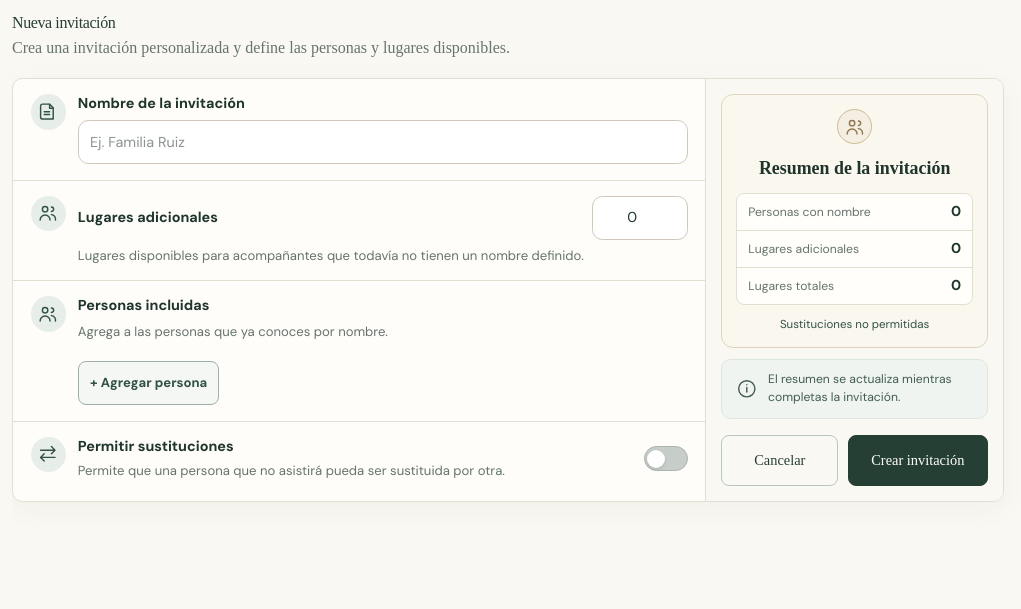
feedback al crear una invitación › conserva validaciones de personas y lugares editados
Type "Familia Ruiz" into the field labelled "Nombre de la invitación" at [383, 142], box left=78, top=120, right=688, bottom=164
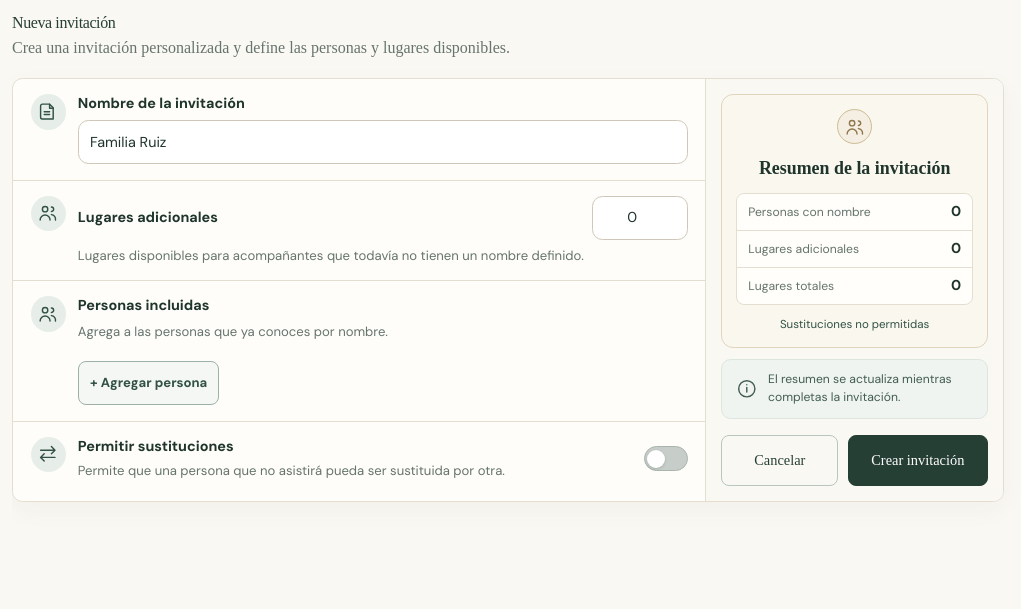
Click the button "+ Agregar persona" at [149, 383], box left=78, top=361, right=220, bottom=405
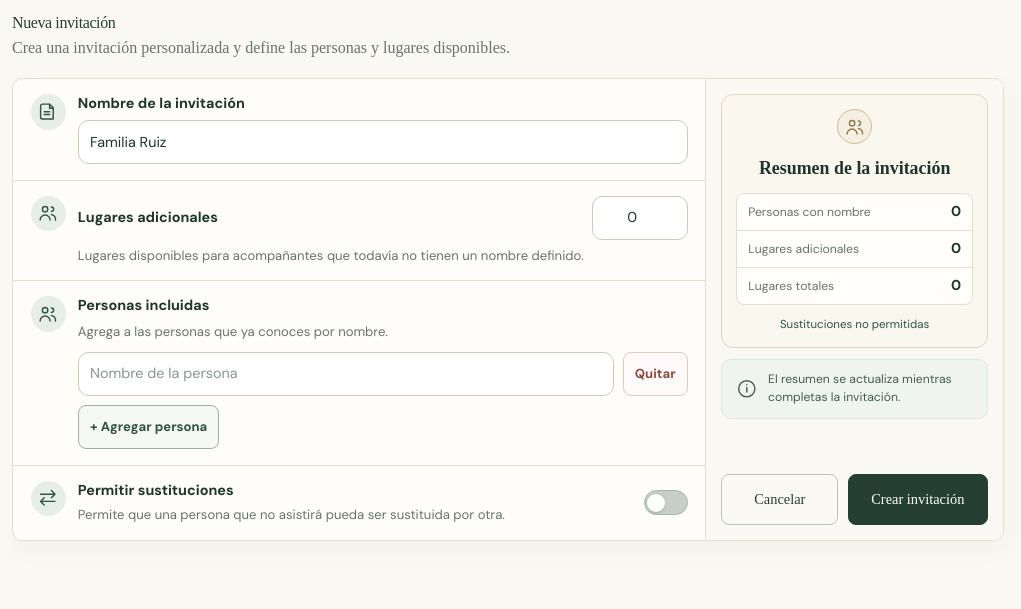
Replace the text in the number field labelled "Lugares adicionales" with "-1" at [640, 218], box left=592, top=196, right=688, bottom=240
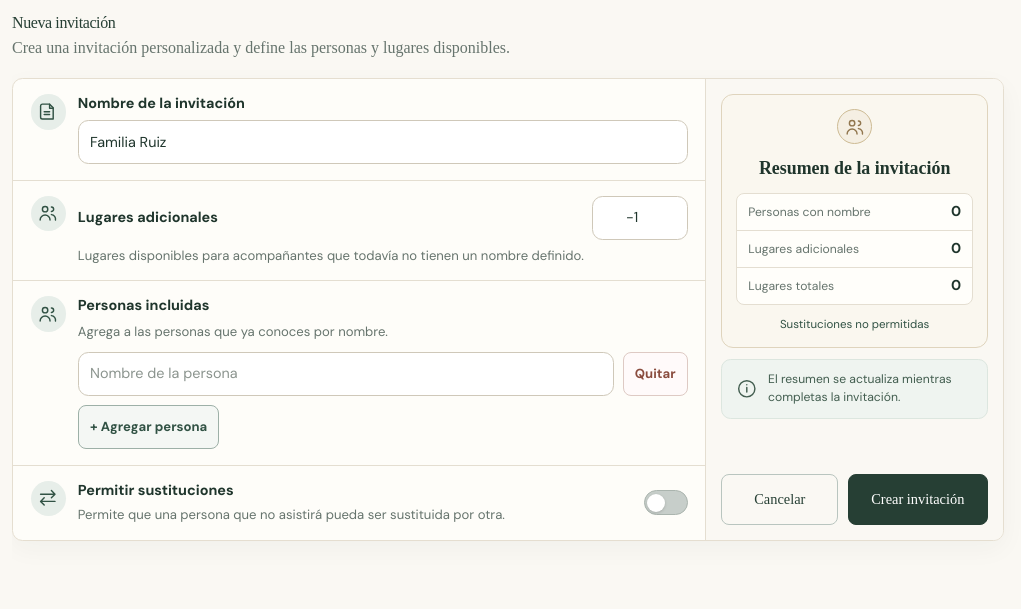
Click the button "Crear invitación" at [918, 500], box left=848, top=474, right=988, bottom=525
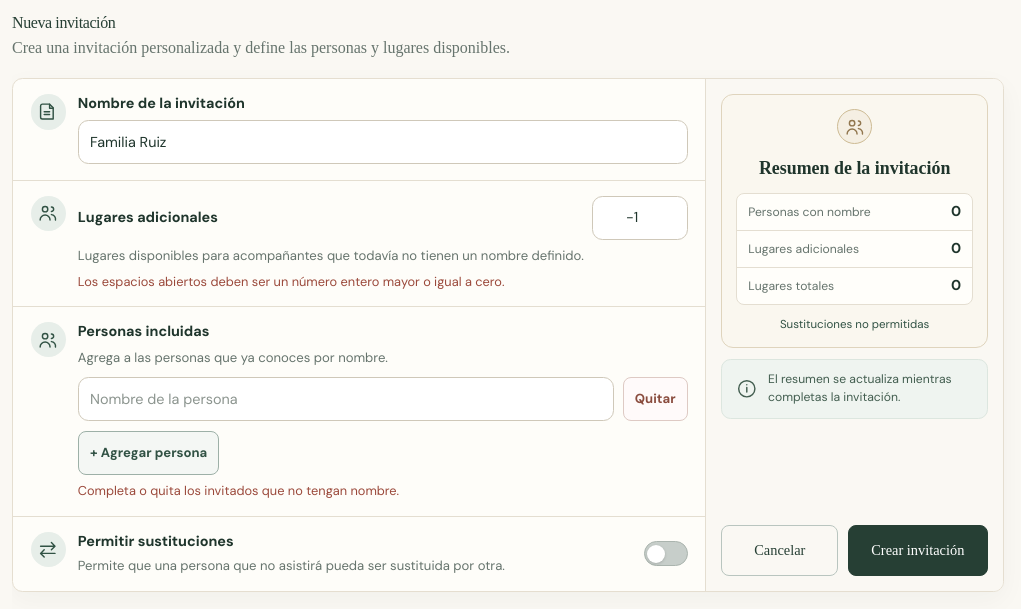
Check: the text "Completa o quita los invitados que no tengan nombre." is shown, box left=78, top=482, right=399, bottom=499
Check: the text "Los espacios abiertos deben ser un número entero mayor o igual a cero." is shown, box left=78, top=272, right=504, bottom=290
